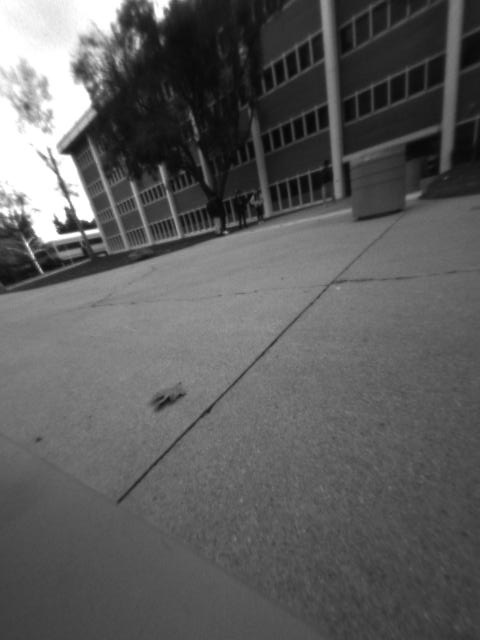trashcan: (349, 140, 410, 220)
